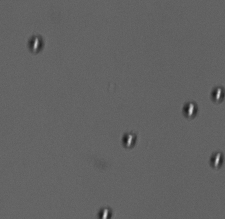Living Cell: (182, 99, 198, 120), (27, 34, 43, 53), (209, 150, 223, 171), (120, 131, 136, 149), (210, 86, 224, 104)
